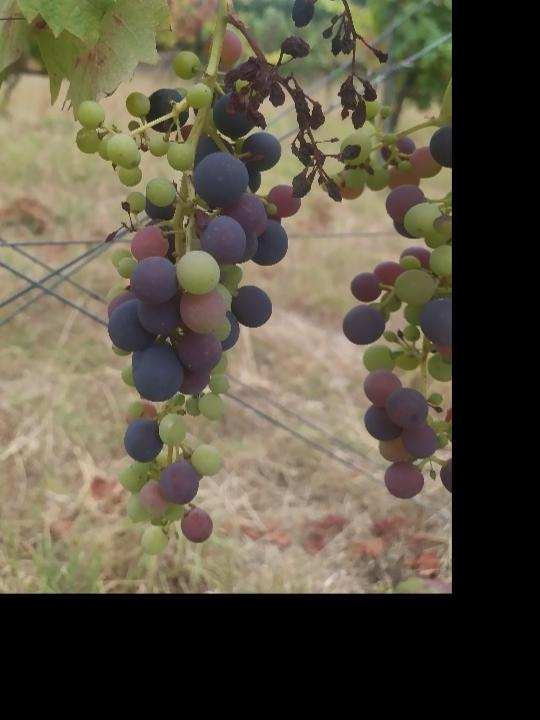grape: (70, 27, 362, 564), (288, 0, 431, 131)
